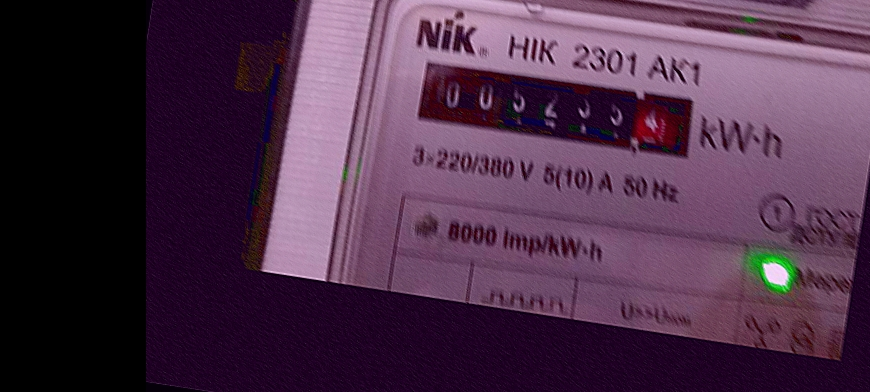0: (475, 76, 500, 112), (443, 75, 466, 109)
2: (541, 83, 567, 120)
3: (573, 86, 602, 123)
4: (641, 97, 668, 136)
5: (606, 90, 633, 129), (509, 80, 533, 115)
screen: (401, 41, 712, 173)
